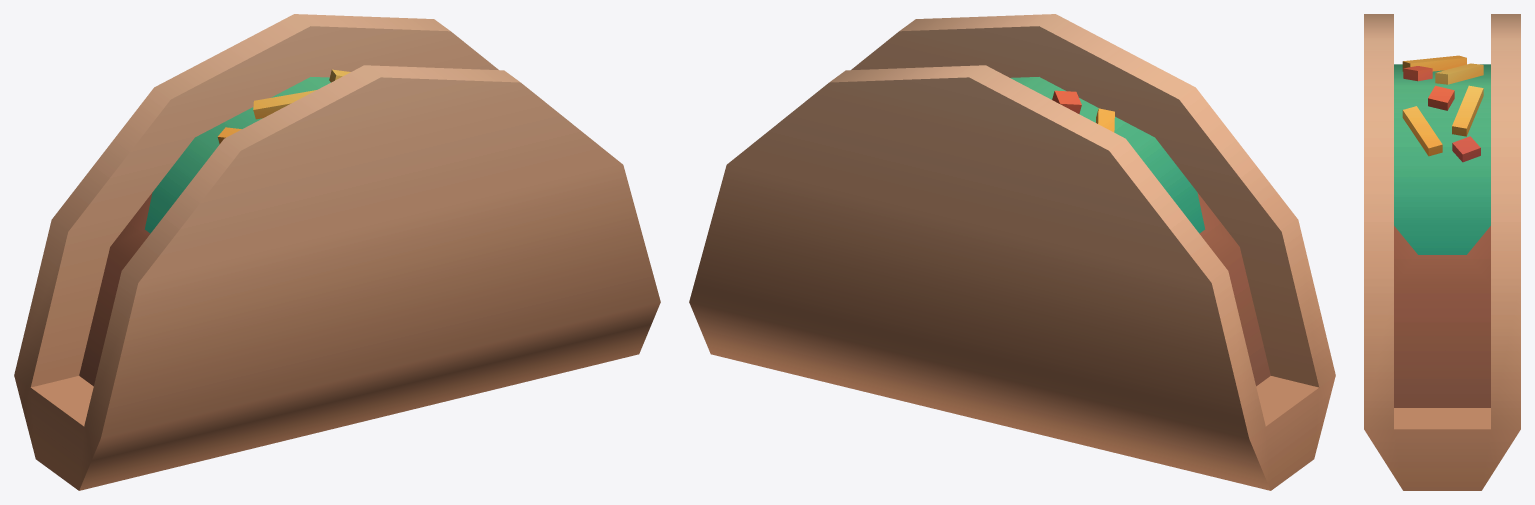
The model's file is food.taco.glb.
3 renders of one model, left to right at view 1: azimuth 30°, elevation 25°; view 2: azimuth 150°, elevation 25°; view 3: azimuth 270°, elevation 25°, orthographic. The views are drawn at different scales.
Parts seen in each view (by area): view 1: taco; view 2: taco; view 3: taco.
Part boxes in pixels (<box>): taco: <box>14,14,660,490</box>; taco: <box>689,14,1335,490</box>; taco: <box>1364,14,1520,490</box>.
Size of the model in its own units: 0.1264 by 0.0779 by 0.0339.
Materials: 1 (1 with a texture image).
